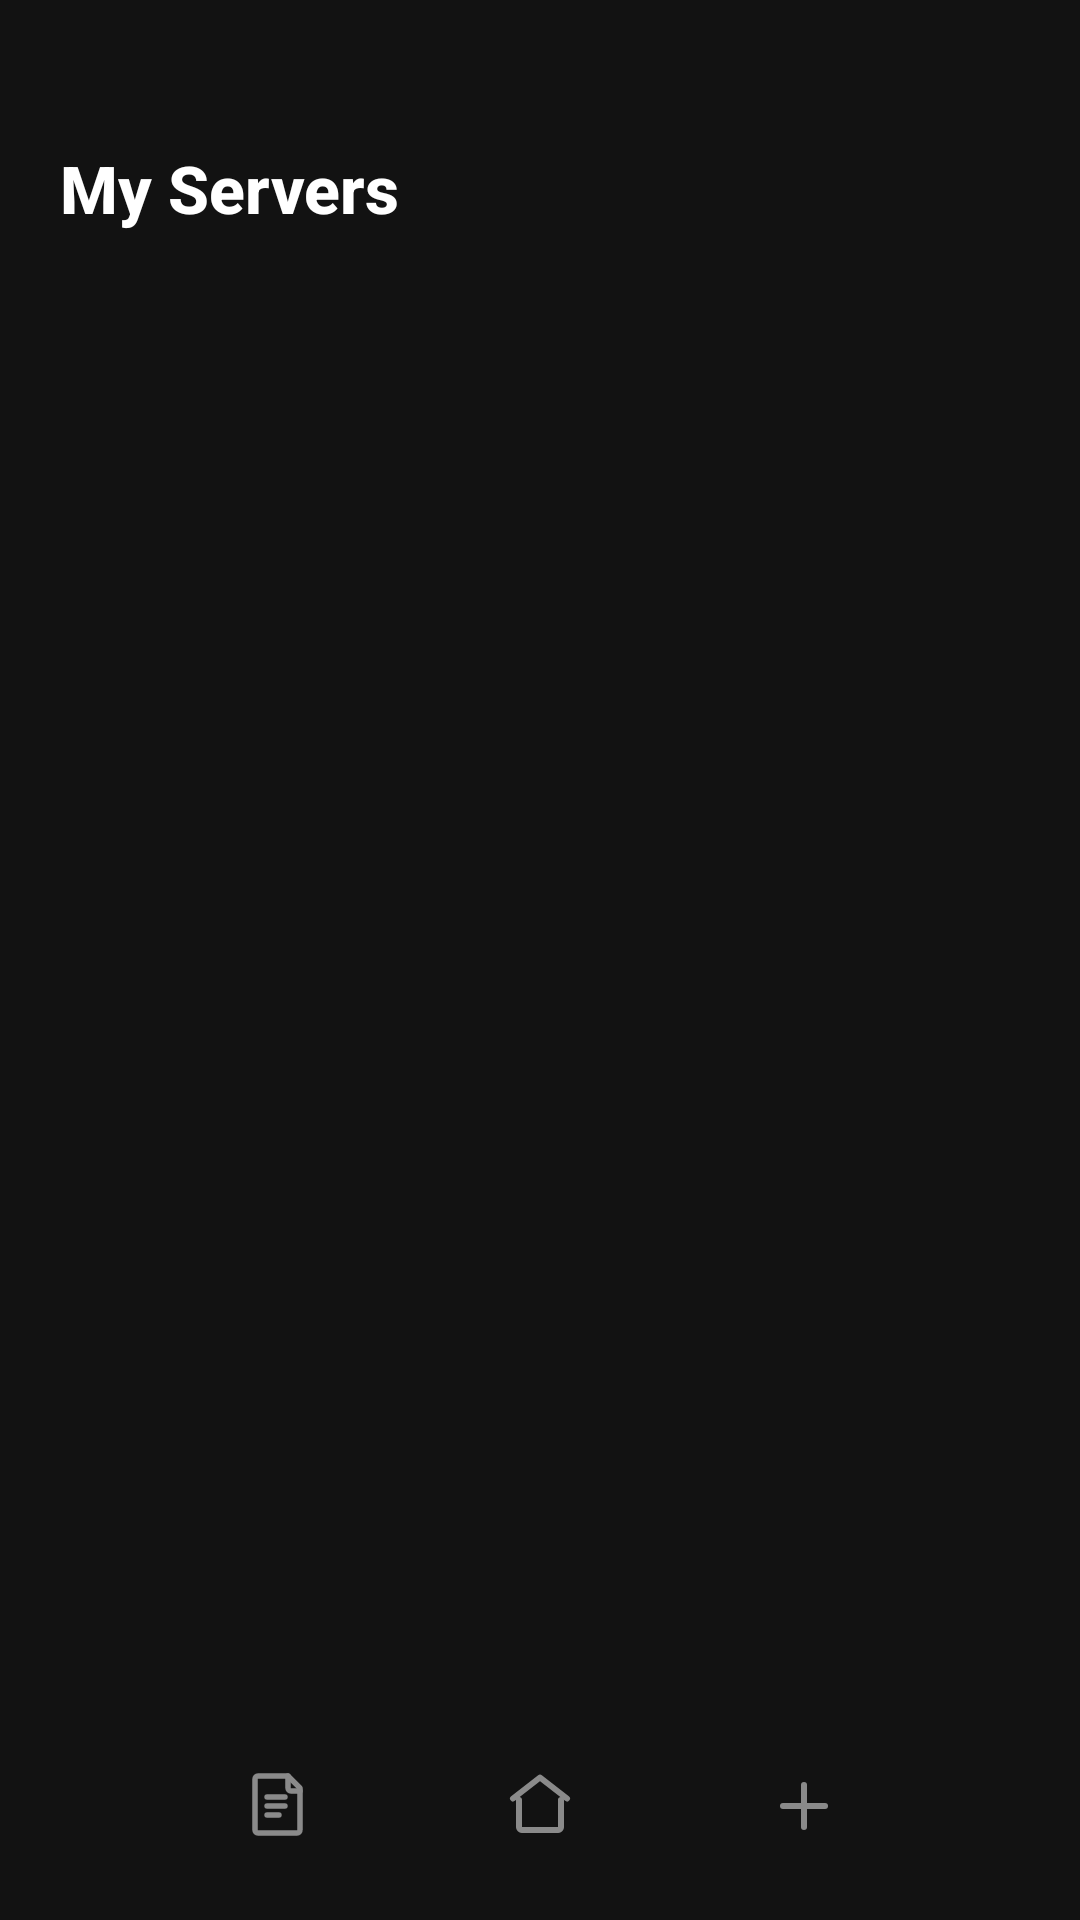

Icons on this 1080px×1920px Android screen, each with the point to tap as (x=x, y=y):
Add server: (x=804, y=1806)
Home: (x=540, y=1803)
Query log: (x=277, y=1804)
